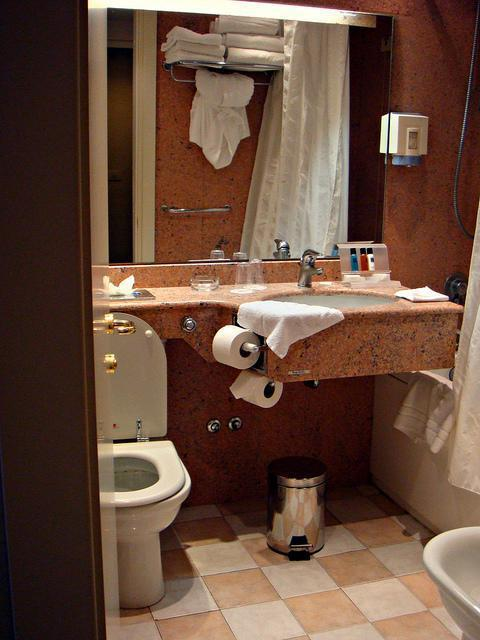Bote de Basura: (262, 450, 330, 562)
Lavamanos: (251, 246, 414, 327)
Sanitario: (77, 311, 191, 617)
